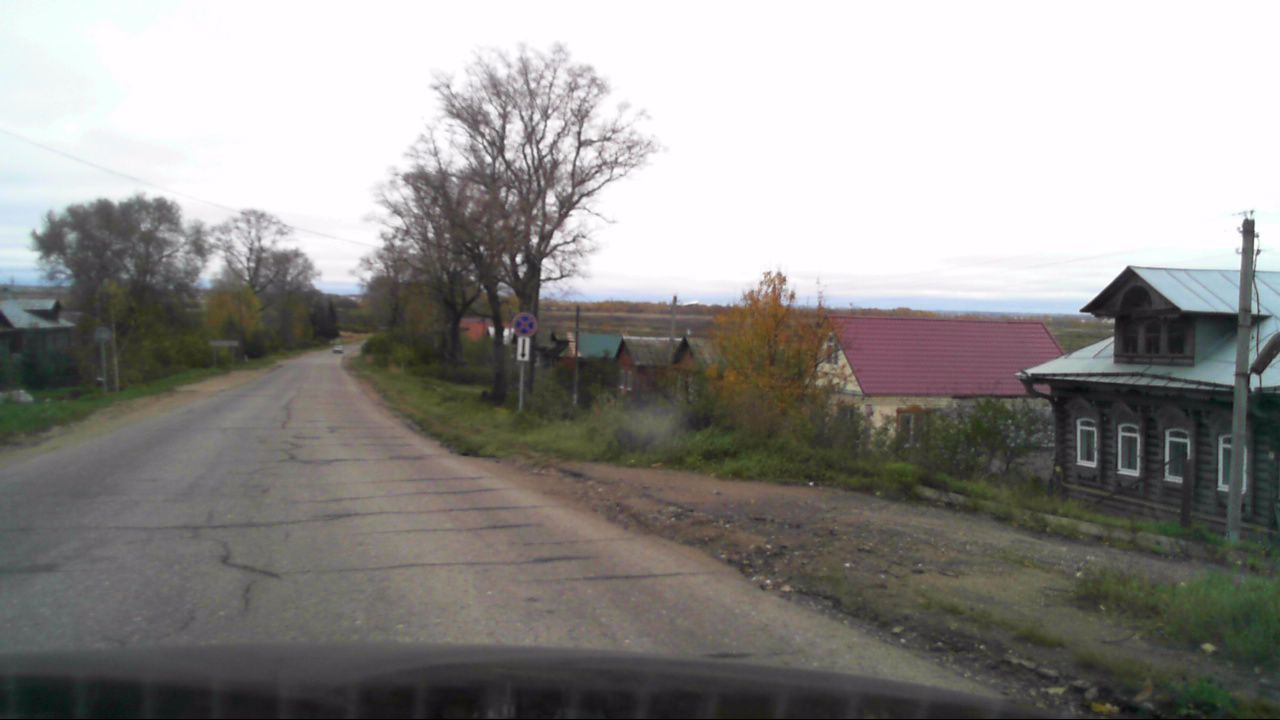No Parking: (511, 312, 539, 337)
